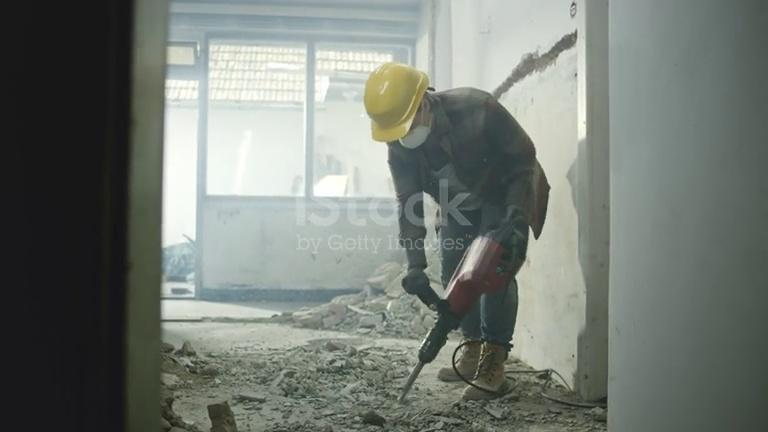helmet: (363, 62, 430, 143)
mask: (389, 126, 431, 149)
person: (363, 60, 550, 403)
